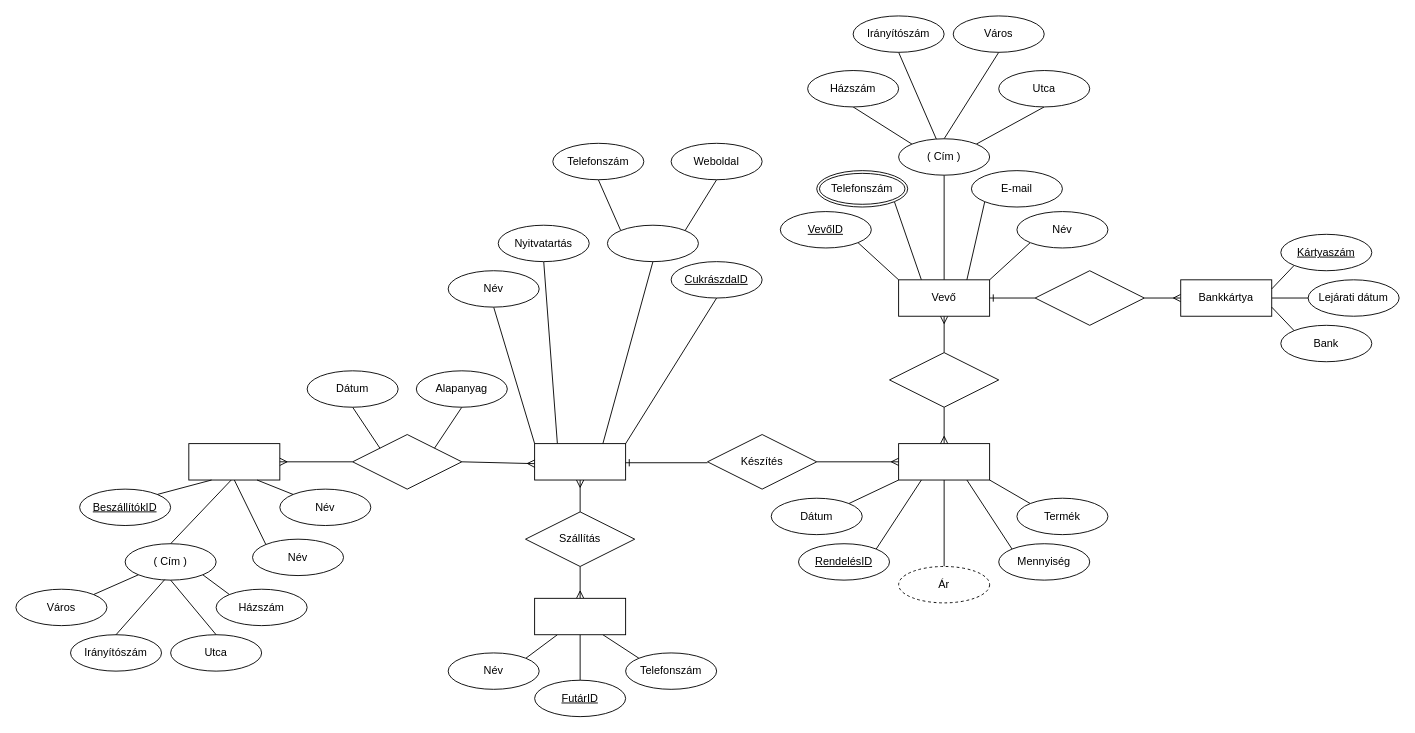
The diagram is 1415 pixels wide and 733 high, and some of its shapes have lost their labels. Here are the shapes that lost their labels. From the top down, the centre of each, then its label:
At (652,243): "(Elérhetőség)".
At (1089,297): "Fizetés".
At (944,379): "Rendelés".
At (234,461): "Beszállítók".
At (407,461): "Beszállítás".
At (580,461): "Cukrászda".
At (944,461): "Sütemények".
At (580,616): "Futár".
